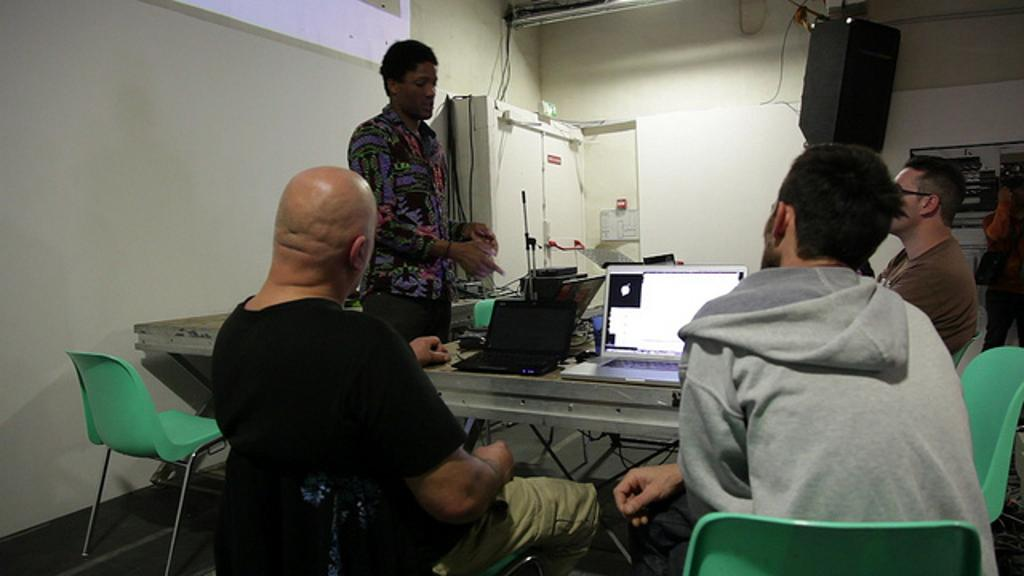face: (882, 166, 919, 233), (399, 62, 435, 118)
